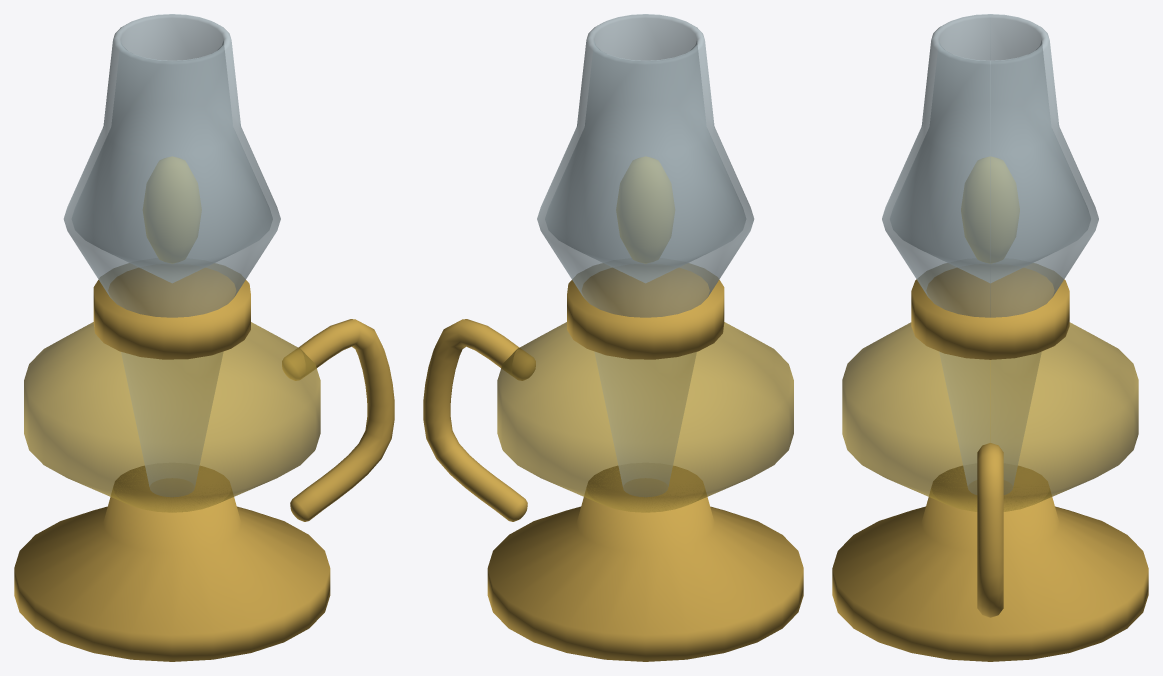
The model's file is lampe.glb.
3 views of the same model, side by side, from view 1: azimuth 30°, elevation 25°; view 2: azimuth 150°, elevation 25°; view 3: azimuth 270°, elevation 25° (orthographic).
Visible parts, largest first — view 1: lampe-glas, lampe-metall, lampe-lack; view 2: lampe-glas, lampe-metall, lampe-lack; view 3: lampe-glas, lampe-metall, lampe-lack.
Boxes of the visible parts, bbox=[...] form: lampe-glas: bbox=[24, 14, 320, 512]; lampe-metall: bbox=[14, 263, 394, 661]; lampe-lack: bbox=[143, 157, 201, 262]; lampe-glas: bbox=[497, 14, 793, 512]; lampe-metall: bbox=[423, 263, 803, 661]; lampe-lack: bbox=[616, 157, 674, 262]; lampe-glas: bbox=[842, 14, 1138, 511]; lampe-metall: bbox=[832, 263, 1148, 661]; lampe-lack: bbox=[961, 157, 1019, 262].
Size of the model in its own units: 0.4179 by 0.6228 by 0.32.
